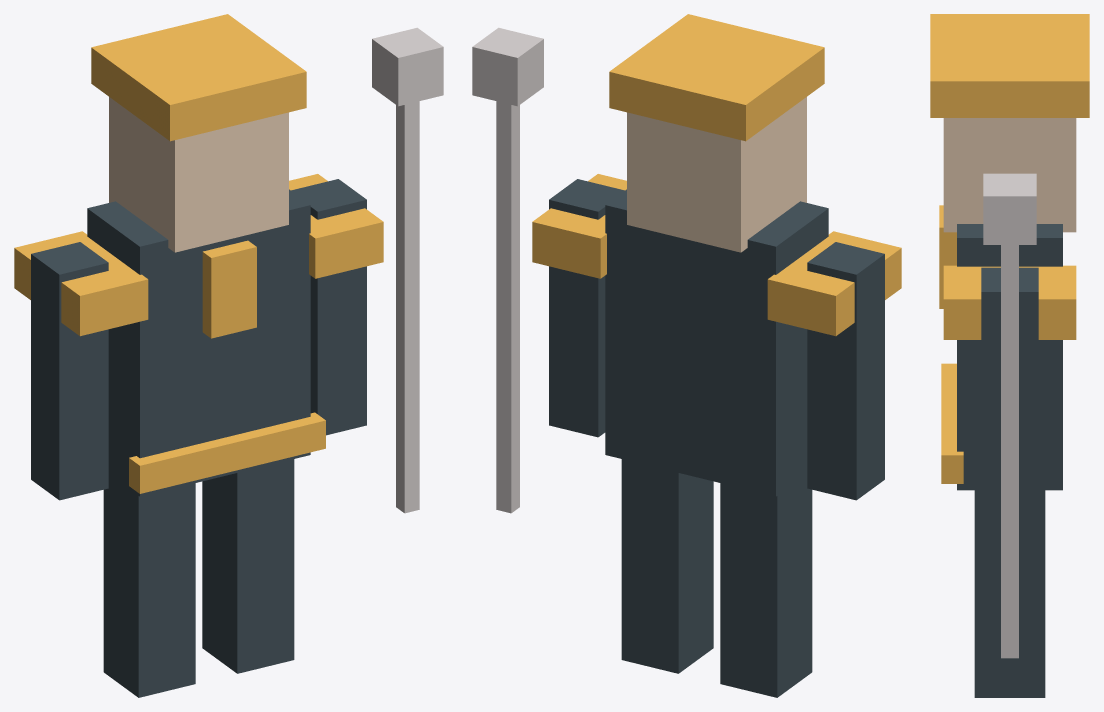
File: 10_rook_cragwarden_navigator_from_emergency.glb
3 views of the same model, side by side, from view 1: azimuth 30°, elevation 25°; view 2: azimuth 150°, elevation 25°; view 3: azimuth 270°, elevation 25° (orthographic).
Visible parts, largest first — view 1: Rook Cragwarden, Navigator from Emergency; view 2: Rook Cragwarden, Navigator from Emergency; view 3: Rook Cragwarden, Navigator from Emergency.
Boxes of the visible parts, bbox=[...] form: Rook Cragwarden, Navigator from Emergency: bbox=[14, 14, 443, 697]; Rook Cragwarden, Navigator from Emergency: bbox=[472, 14, 901, 697]; Rook Cragwarden, Navigator from Emergency: bbox=[930, 14, 1089, 697].
Size of the model in its own units: 0.9371 by 1.41 by 0.3324.
